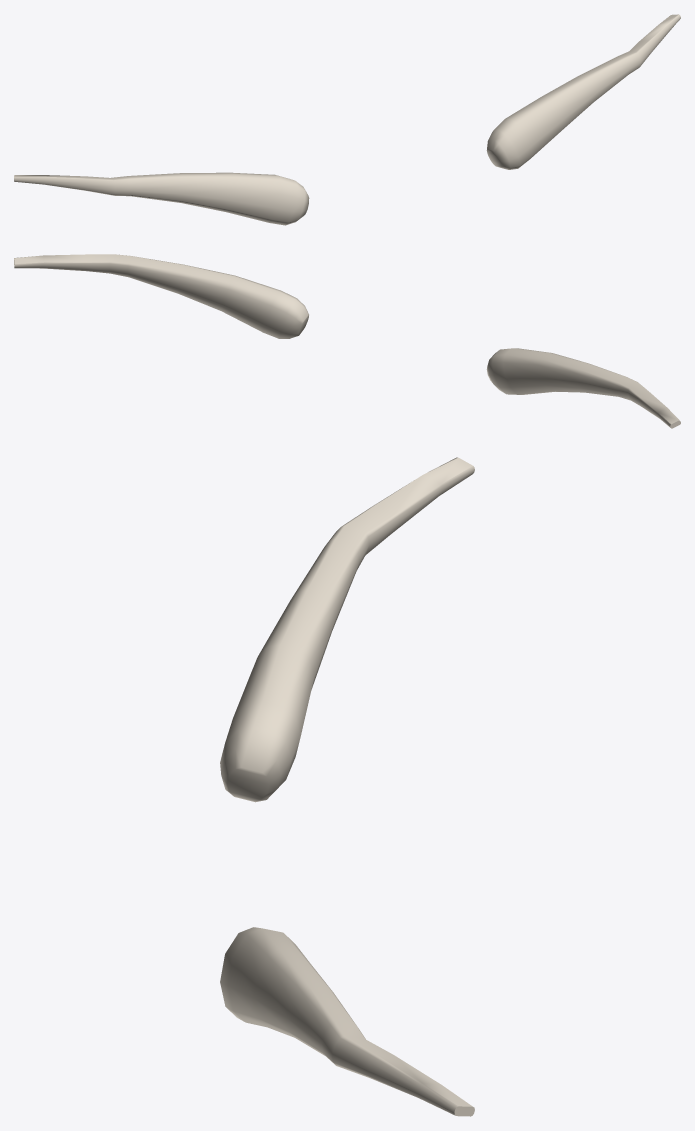
File: Eyebrows_25_07.fbx
The picture shows the model from 3 angles, top to bottom: view 1: azimuth 30°, elevation 25°; view 2: azimuth 150°, elevation 25°; view 3: azimuth 270°, elevation 25°; orthographic projection. The views are drawn at different scales.
Visible parts, largest first — view 1: Eyebrows_25_07; view 2: Eyebrows_25_07; view 3: Eyebrows_25_07.
Boxes of the visible parts, x1,y1,x2,y2 form: Eyebrows_25_07: [14, 14, 680, 225]; Eyebrows_25_07: [14, 254, 680, 428]; Eyebrows_25_07: [220, 457, 474, 1116].
Size of the model in its own units: 17.7 by 1.64 by 2.93.
